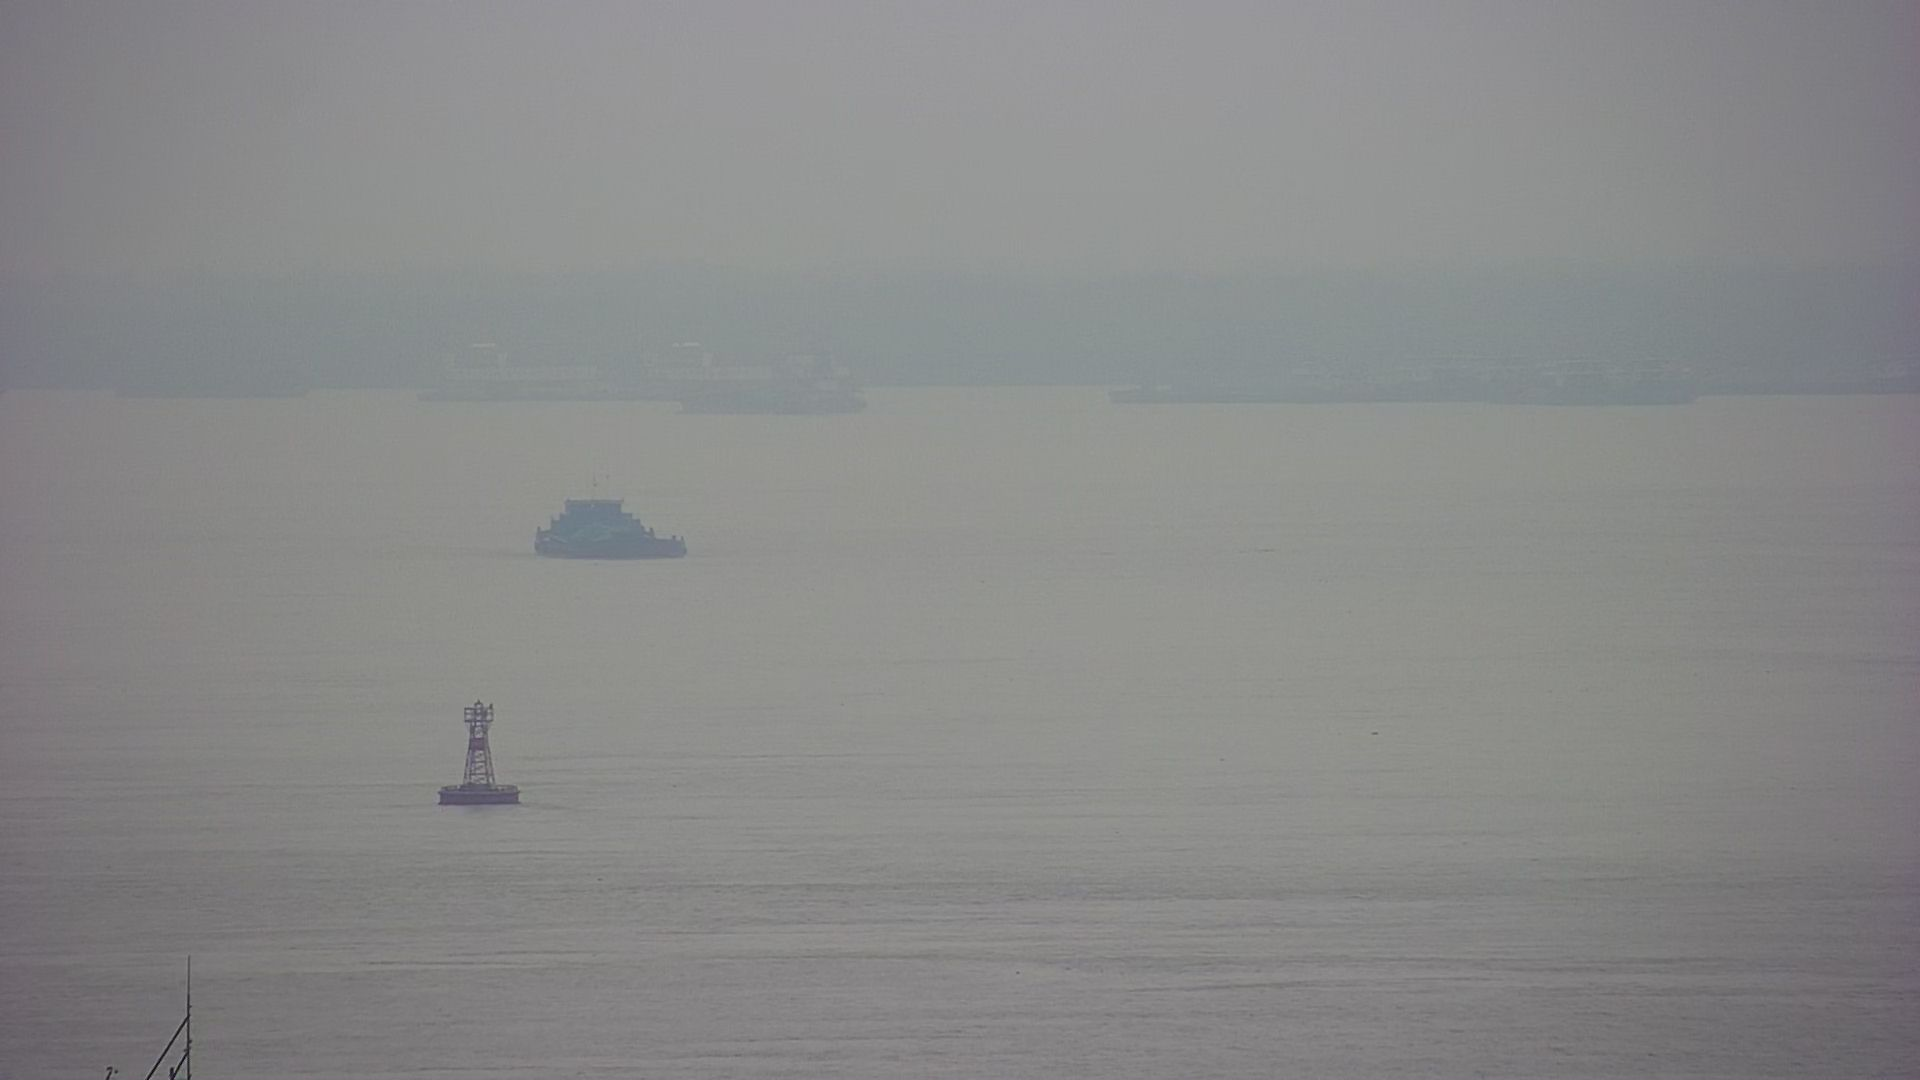buoy: (439, 688, 517, 808)
mast: (99, 936, 202, 1080)
ship: (522, 477, 686, 563)
